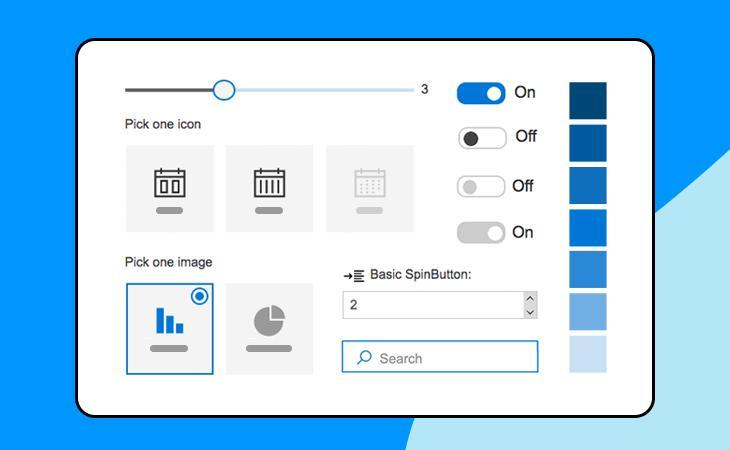input: (344, 342, 540, 374), (346, 290, 539, 320)
label: (367, 268, 479, 289), (121, 252, 219, 272), (122, 116, 216, 136), (512, 172, 540, 202), (509, 220, 537, 245), (517, 125, 544, 149), (512, 80, 537, 104)
slider: (121, 78, 417, 102)
switch: (456, 123, 507, 155), (456, 80, 509, 110), (459, 172, 509, 202), (455, 219, 510, 246)
